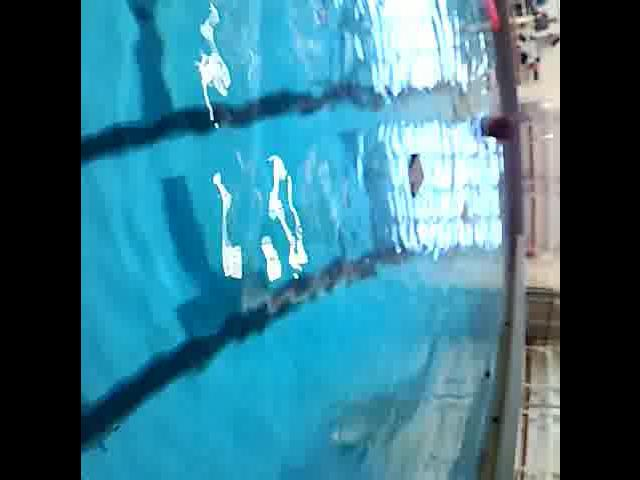CamMount: (400, 152, 430, 199)
